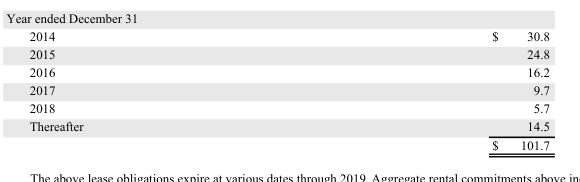table: (28, 28, 548, 151)
table column: (286, 28, 548, 151), (28, 28, 286, 151)
table row: (28, 98, 548, 117), (28, 44, 548, 62), (28, 62, 548, 80), (28, 80, 548, 98), (28, 117, 548, 135), (28, 28, 548, 44), (28, 135, 548, 151)
